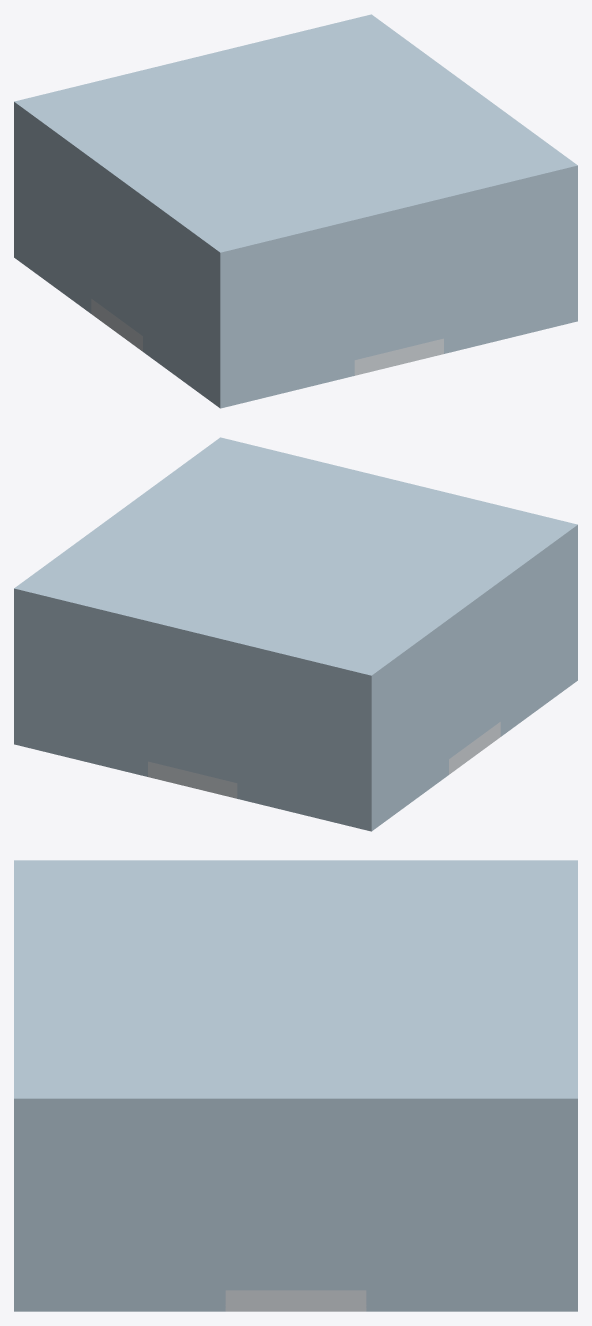
Rendered from ice-lake-mirror.glb.
The picture shows the model from 3 angles, top to bottom: view 1: azimuth 30°, elevation 25°; view 2: azimuth 150°, elevation 25°; view 3: azimuth 270°, elevation 25°; orthographic projection. The views are drawn at different scales.
Parts seen in each view (by area): view 1: ice-rock_27, ice-rock_9, plug_ice_south, ice-rock_15, ice-rock_16, ice-rock_5, plug_ice_west, ice-rock_14, ice-rock_11, ice-rock_12, ice-rock_13, ice-rock_20 (+7 smaller); view 2: ice-rock_27, ice-rock_1, ice-rock_2, ice-rock_9, plug_ice_north, ice-rock_5, plug_ice_west, ice-rock_17, ice-rock_7, ice-rock_3, ice-rock_18, snow_1 (+1 smaller); view 3: ice-rock_27, ice-rock_10, plug_ice_east, ice-rock_6, ice-rock_4, ice-rock_8, ice-rock_19, ice-rock_2, snow_11.
Boxes of the visible parts, x1,y1,x2,y2 form: ice-rock_27: [14, 14, 577, 268]; ice-rock_9: [143, 212, 235, 408]; plug_ice_south: [354, 245, 443, 359]; ice-rock_15: [295, 235, 354, 390]; ice-rock_16: [444, 199, 503, 353]; ice-rock_5: [39, 136, 74, 301]; plug_ice_west: [91, 205, 142, 335]; ice-rock_14: [503, 192, 533, 339]; ice-rock_11: [235, 257, 264, 404]; ice-rock_12: [533, 185, 562, 332]; ice-rock_13: [265, 250, 294, 397]; ice-rock_20: [354, 214, 443, 266]; ice-rock_27: [14, 437, 577, 691]; ice-rock_1: [237, 658, 379, 831]; ice-rock_2: [14, 604, 147, 776]; ice-rock_9: [500, 540, 577, 736]; plug_ice_north: [148, 668, 237, 782]; ice-rock_5: [397, 647, 431, 812]; plug_ice_west: [449, 628, 500, 758]; ice-rock_17: [148, 637, 237, 689]; ice-rock_7: [431, 635, 448, 787]; ice-rock_3: [380, 673, 397, 824]; ice-rock_18: [449, 597, 500, 665]; snow_1: [148, 761, 237, 798]; ice-rock_27: [14, 860, 577, 1119]; ice-rock_10: [14, 1120, 225, 1311]; plug_ice_east: [225, 1162, 366, 1290]; ice-rock_6: [413, 1120, 507, 1311]; ice-rock_4: [507, 1120, 554, 1311]; ice-rock_8: [366, 1120, 413, 1311]; ice-rock_19: [225, 1120, 366, 1162]; ice-rock_2: [554, 1120, 577, 1311]; snow_11: [225, 1290, 366, 1311].
Size of the model in its own units: 12 by 5 by 12.
